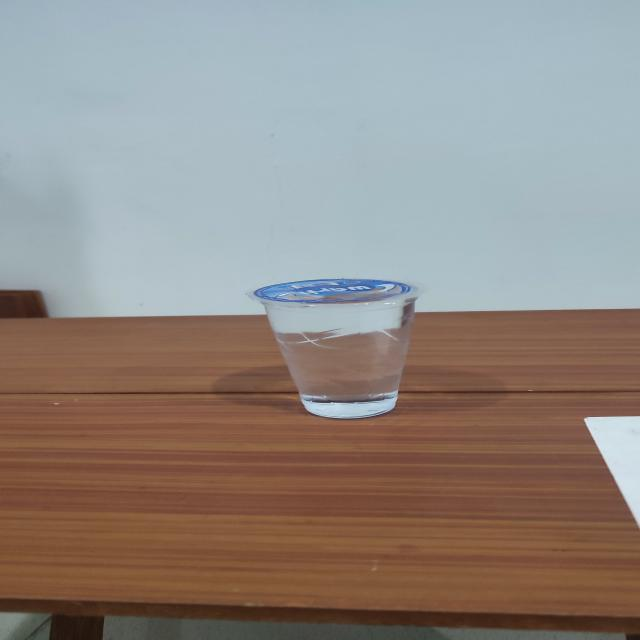air gelas: (243, 265, 431, 423)
